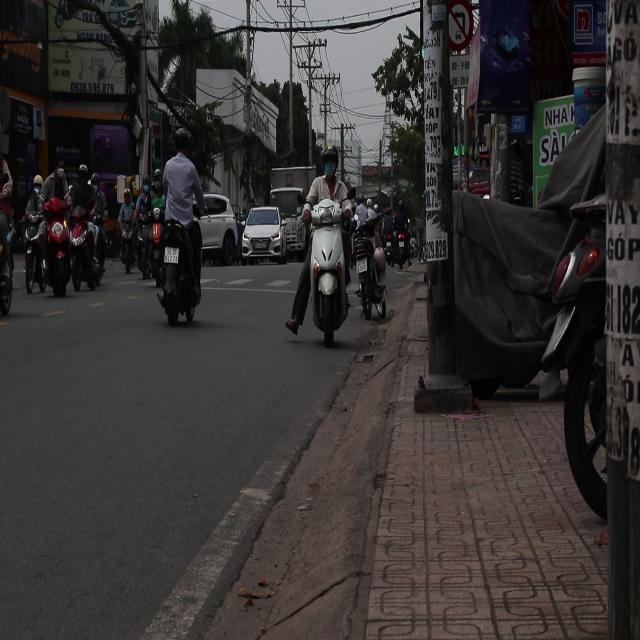car: (198, 192, 244, 265), (241, 206, 285, 263)
motorbike: (287, 200, 352, 345), (152, 214, 204, 327), (352, 212, 390, 324), (34, 200, 75, 296), (65, 208, 105, 292), (120, 212, 140, 274)
truck: (269, 189, 308, 258)
